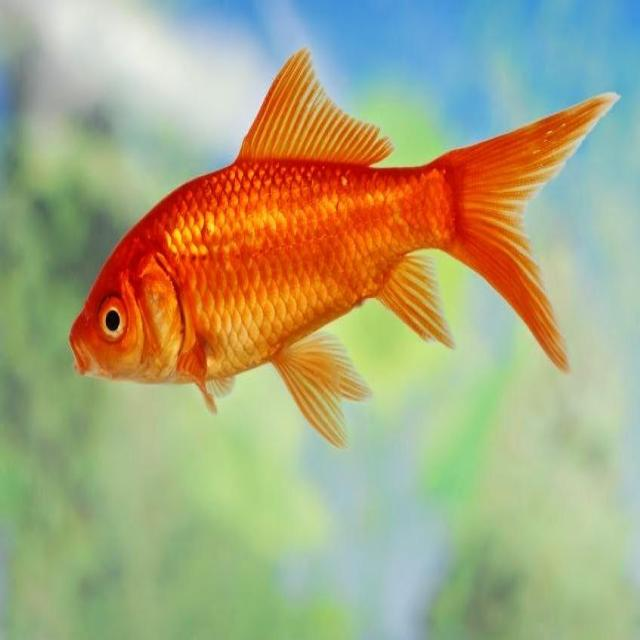GoldFish: (66, 41, 619, 450)
